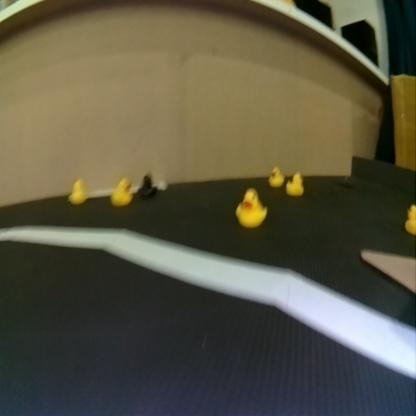Duckie: (235, 188, 266, 226), (110, 178, 132, 205), (68, 179, 86, 203), (404, 204, 416, 235), (287, 172, 303, 195), (268, 167, 283, 187)
